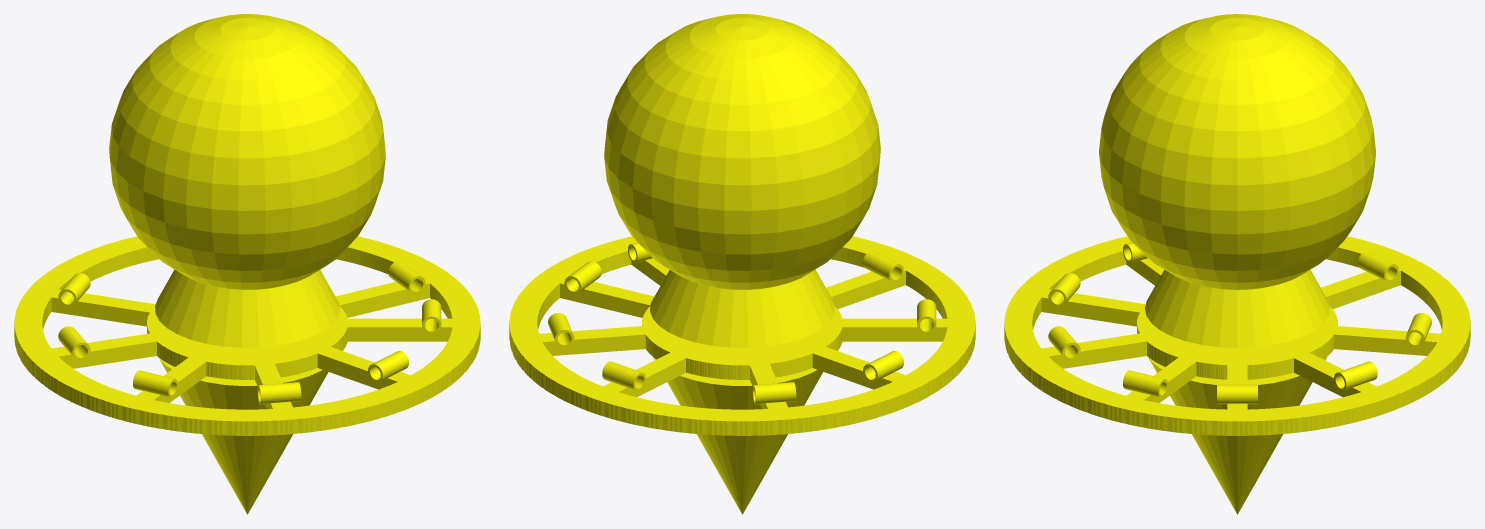
The model's file is player.obj.
3 views of the same model, side by side, from view 1: azimuth 30°, elevation 25°; view 2: azimuth 150°, elevation 25°; view 3: azimuth 270°, elevation 25° (orthographic).
Parts seen in each view (by area): view 1: 円錐.001; view 2: 円錐.001; view 3: 円錐.001.
Boxes of the visible parts, x1=… form: 円錐.001: x1=14, y1=14, x2=480, y2=514; 円錐.001: x1=509, y1=14, x2=975, y2=514; 円錐.001: x1=1004, y1=14, x2=1470, y2=514.
Bounding box in the file's own units: 3.36 × 3.88 × 3.36.
Materials: 1 (1 with a texture image).
